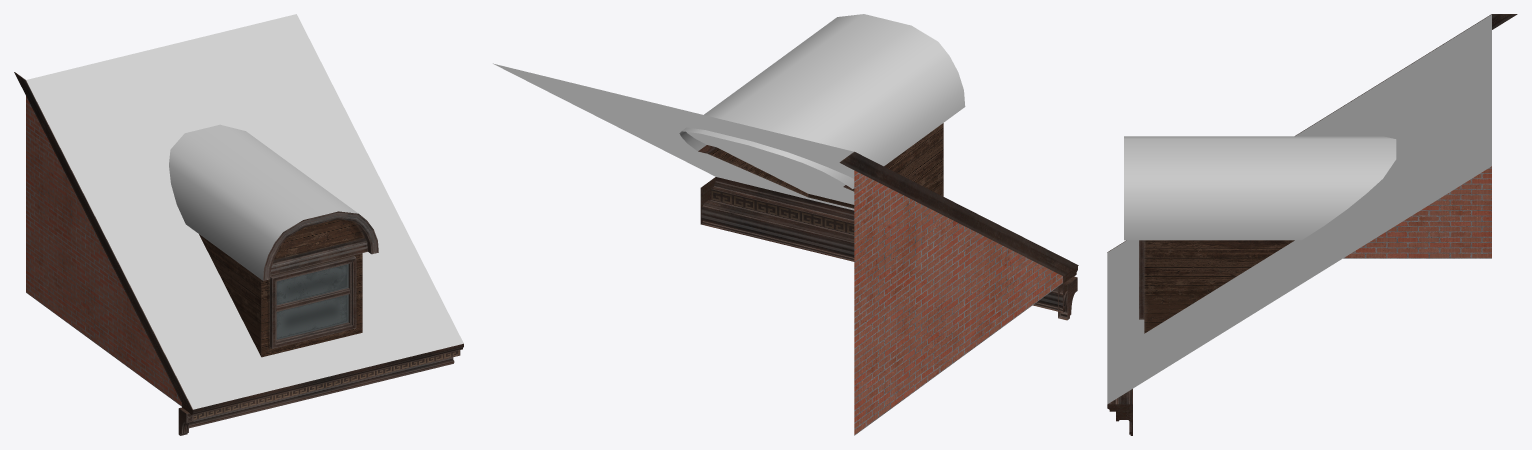
File: House_03_Roof_01.fbx
3 renders of one model, left to right at view 1: azimuth 30°, elevation 25°; view 2: azimuth 150°, elevation 25°; view 3: azimuth 270°, elevation 25°, orthographic. The views are drawn at different scales.
Parts seen in each view (by area): view 1: House_03_Roof_01_LOD0; view 2: House_03_Roof_01_LOD0; view 3: House_03_Roof_01_LOD0.
Boxes of the visible parts, <box> form: House_03_Roof_01_LOD0: <box>14,14,463,435</box>; House_03_Roof_01_LOD0: <box>493,14,1078,435</box>; House_03_Roof_01_LOD0: <box>1107,14,1517,435</box>.
Size of what is drawn, in the model's own units: 405 by 338 by 457.
